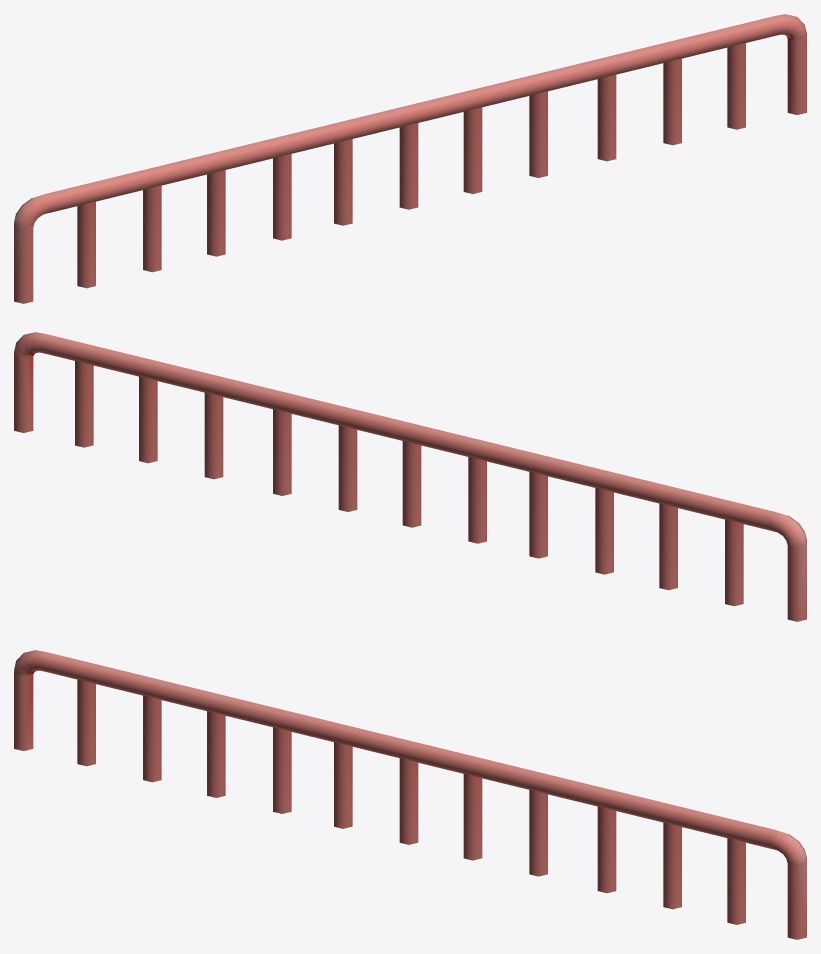
Rendered from StartGatePlatformHandrailRed.glb.
The picture shows the model from 3 angles, top to bottom: view 1: azimuth 30°, elevation 25°; view 2: azimuth 150°, elevation 25°; view 3: azimuth 330°, elevation 25°; orthographic projection.
Parts seen in each view (by area): view 1: StartGatePlatformHandrailRed; view 2: StartGatePlatformHandrailRed; view 3: StartGatePlatformHandrailRed.
Part boxes in pixels (left/top/right/bottom): StartGatePlatformHandrailRed: left=14, top=14, right=806, bottom=303; StartGatePlatformHandrailRed: left=14, top=332, right=806, bottom=621; StartGatePlatformHandrailRed: left=14, top=650, right=806, bottom=939.
Bounding box in the file's own units: 6.34 × 0.7639 × 0.1346.
